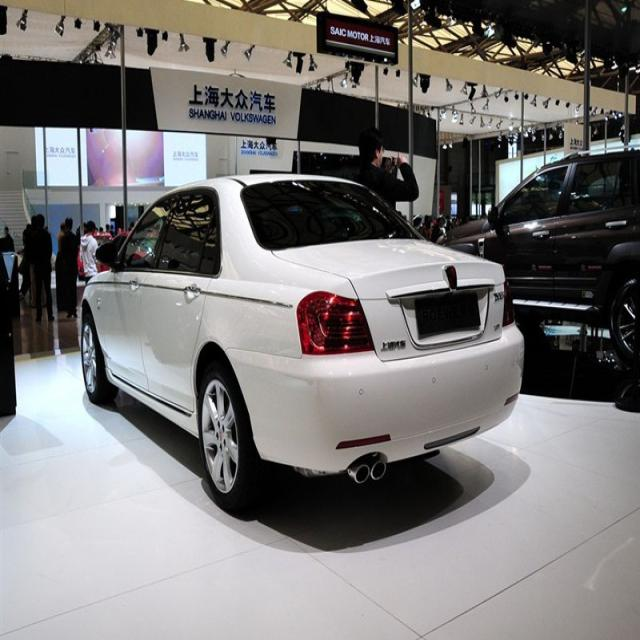back_glass: (239, 179, 427, 254)
back_left_side_light: (297, 290, 377, 357)
back_right_side_light: (500, 264, 516, 333)
door: (142, 190, 219, 416)
front_left_side_door: (101, 189, 180, 404)
front_left_side_mirror: (95, 242, 117, 268)
rear_bumper: (223, 323, 526, 477)
wheel: (197, 361, 267, 513), (80, 312, 121, 405)
